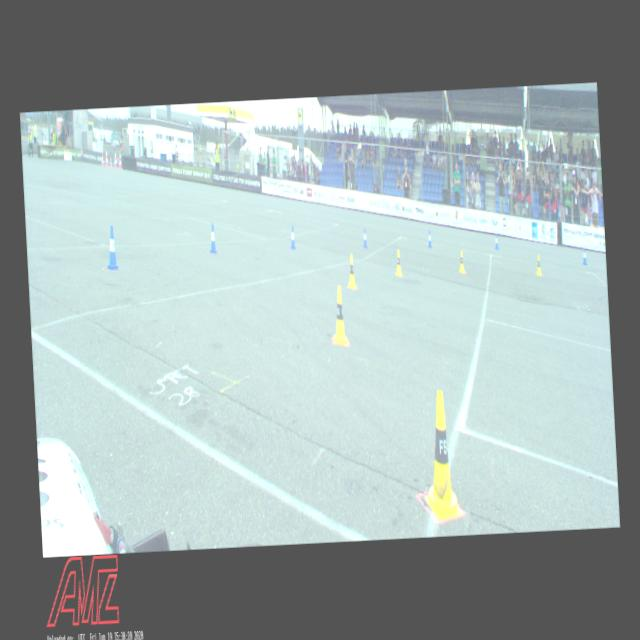blue_cone: (105, 226, 119, 270), (208, 223, 218, 254), (290, 225, 296, 250), (362, 228, 368, 248), (427, 230, 432, 248), (582, 247, 587, 265), (494, 233, 499, 250)
large_orange_cone: (114, 150, 118, 168), (119, 152, 122, 170), (105, 150, 108, 166)
yellow_cone: (420, 390, 462, 520), (331, 286, 348, 346), (346, 254, 356, 290), (395, 250, 402, 276), (458, 250, 465, 273), (536, 255, 542, 276)
